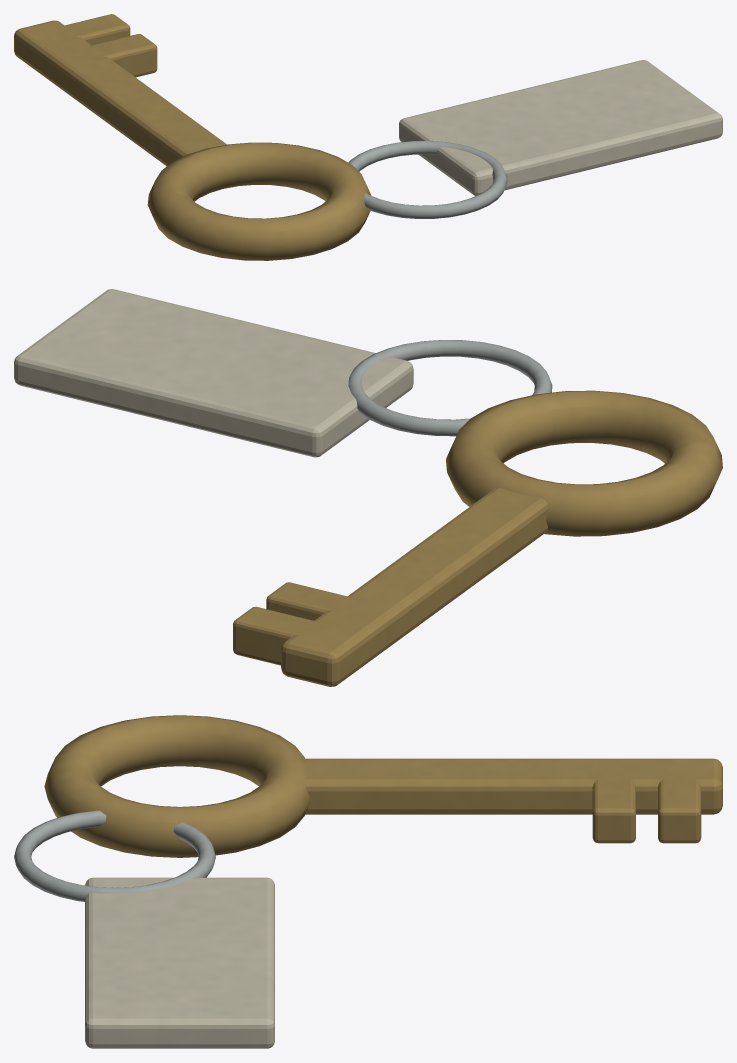
Rendered from SM_Office_SpareKey.fbx.
3 renders of one model, top to bottom at view 1: azimuth 30°, elevation 25°; view 2: azimuth 150°, elevation 25°; view 3: azimuth 270°, elevation 25°, orthographic. The views are drawn at different scales.
Visible parts, largest first — view 1: SM_Office_SpareKey; view 2: SM_Office_SpareKey; view 3: SM_Office_SpareKey.
Part boxes in pixels (x1,y1,x2,y2): SM_Office_SpareKey: (14, 14, 722, 260); SM_Office_SpareKey: (14, 289, 722, 686); SM_Office_SpareKey: (14, 715, 722, 1048).
Size of the model in its own units: 0.134 by 0.1306 by 0.01.
